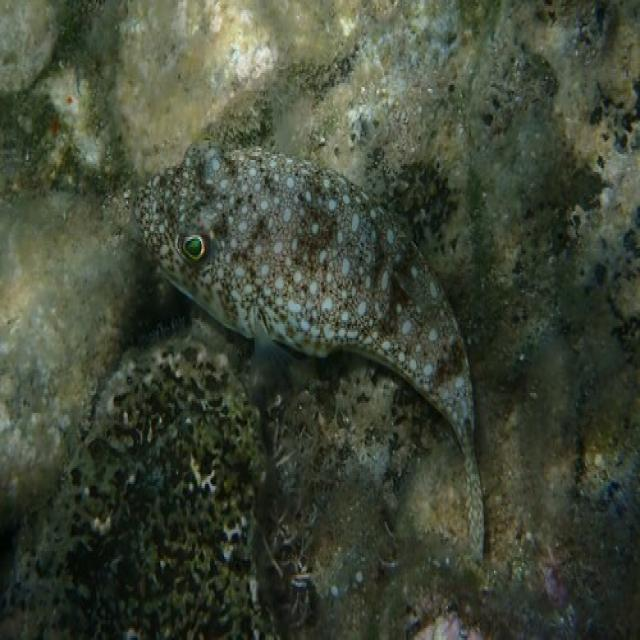Balik: (135, 143, 483, 559)
